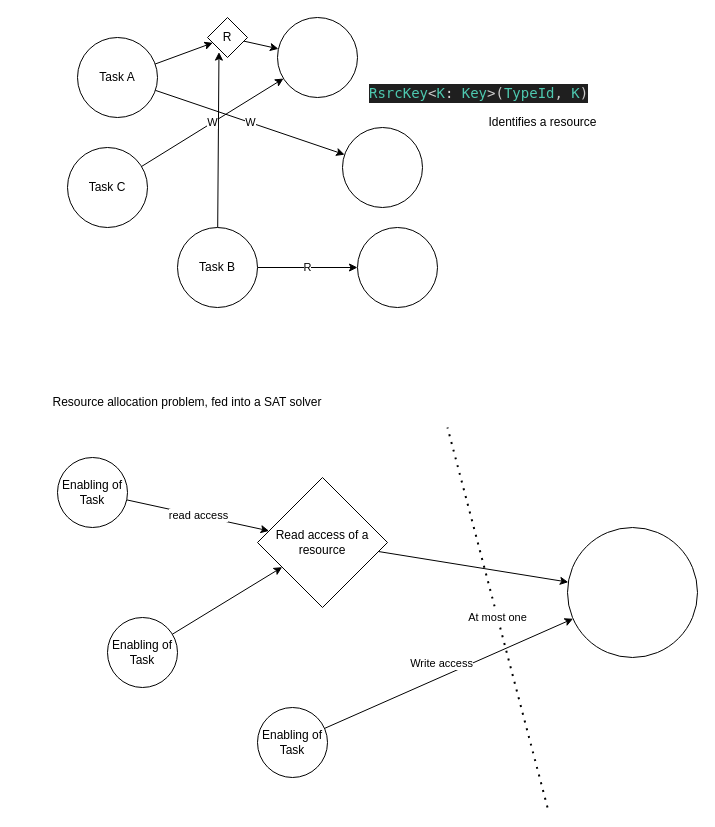
The diagram is 715 pixels wide and 827 high, and some of its shapes have lost their labels. Here are the shapes that lost their labels. From the top down, the centre of each, then its label:
At point (317, 57): "Resource 1".
At point (382, 167): "Resource 2".
At point (397, 267): "Resource 3".
At point (632, 592): "Usage of a resource".
